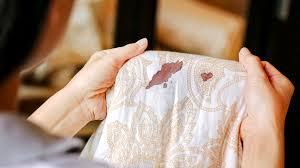blood: (149, 60, 182, 88), (201, 72, 212, 81)
